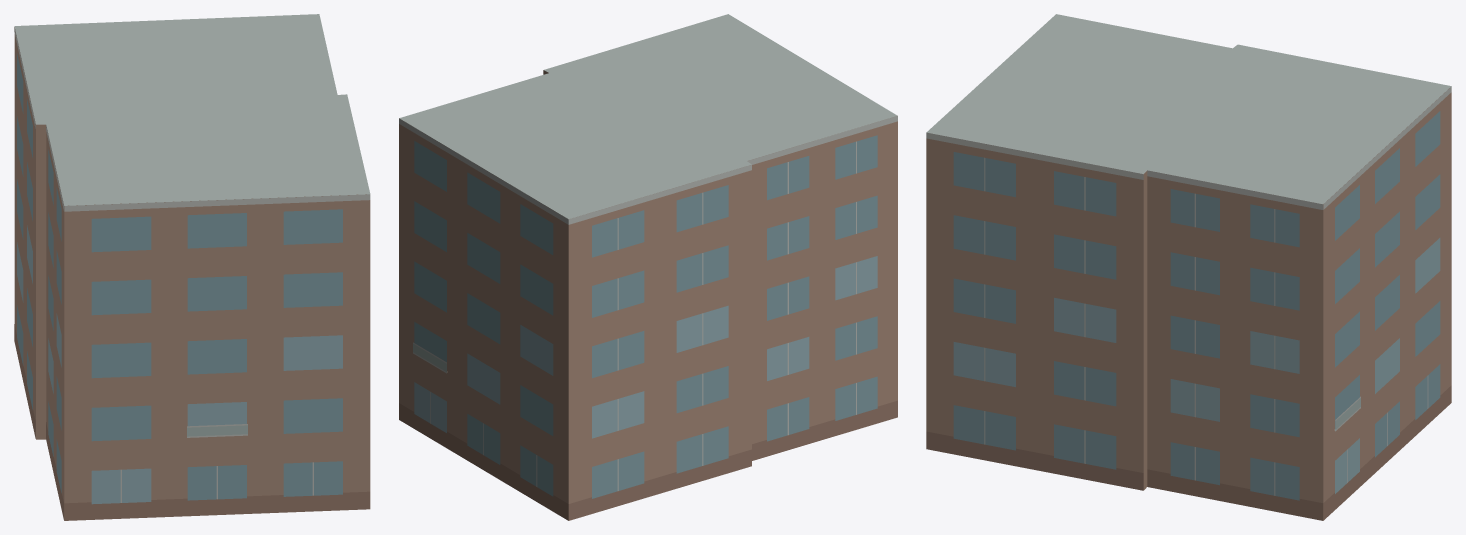
Rendered from survey-upis-33000923.glb.
3 renders of one model, left to right at view 1: azimuth 30°, elevation 25°; view 2: azimuth 150°, elevation 25°; view 3: azimuth 270°, elevation 25°, orthographic. The views are drawn at different scales.
Visible parts, largest first — view 1: survey-upis-33000923.tmp; view 2: survey-upis-33000923.tmp; view 3: survey-upis-33000923.tmp.
Boxes of the visible parts, <box> form: survey-upis-33000923.tmp: <box>14,14,370,520</box>; survey-upis-33000923.tmp: <box>399,14,897,520</box>; survey-upis-33000923.tmp: <box>926,14,1451,520</box>.
Bounding box in the file's own units: 16.95 × 13.14 × 19.77.
